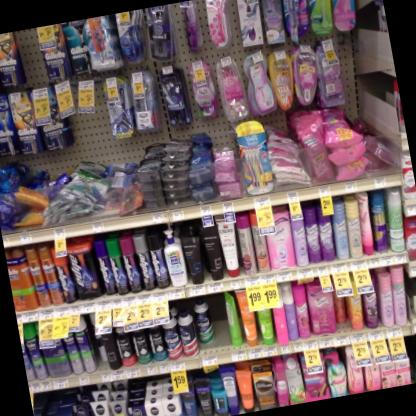empty_space: (205, 291, 237, 353)
